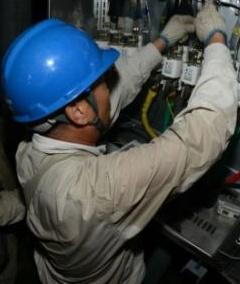gloves: (193, 0, 228, 45), (159, 13, 196, 48)
hard-hat: (0, 18, 120, 124)
ppe-suit: (14, 40, 239, 284)
vest: (0, 92, 56, 284)
